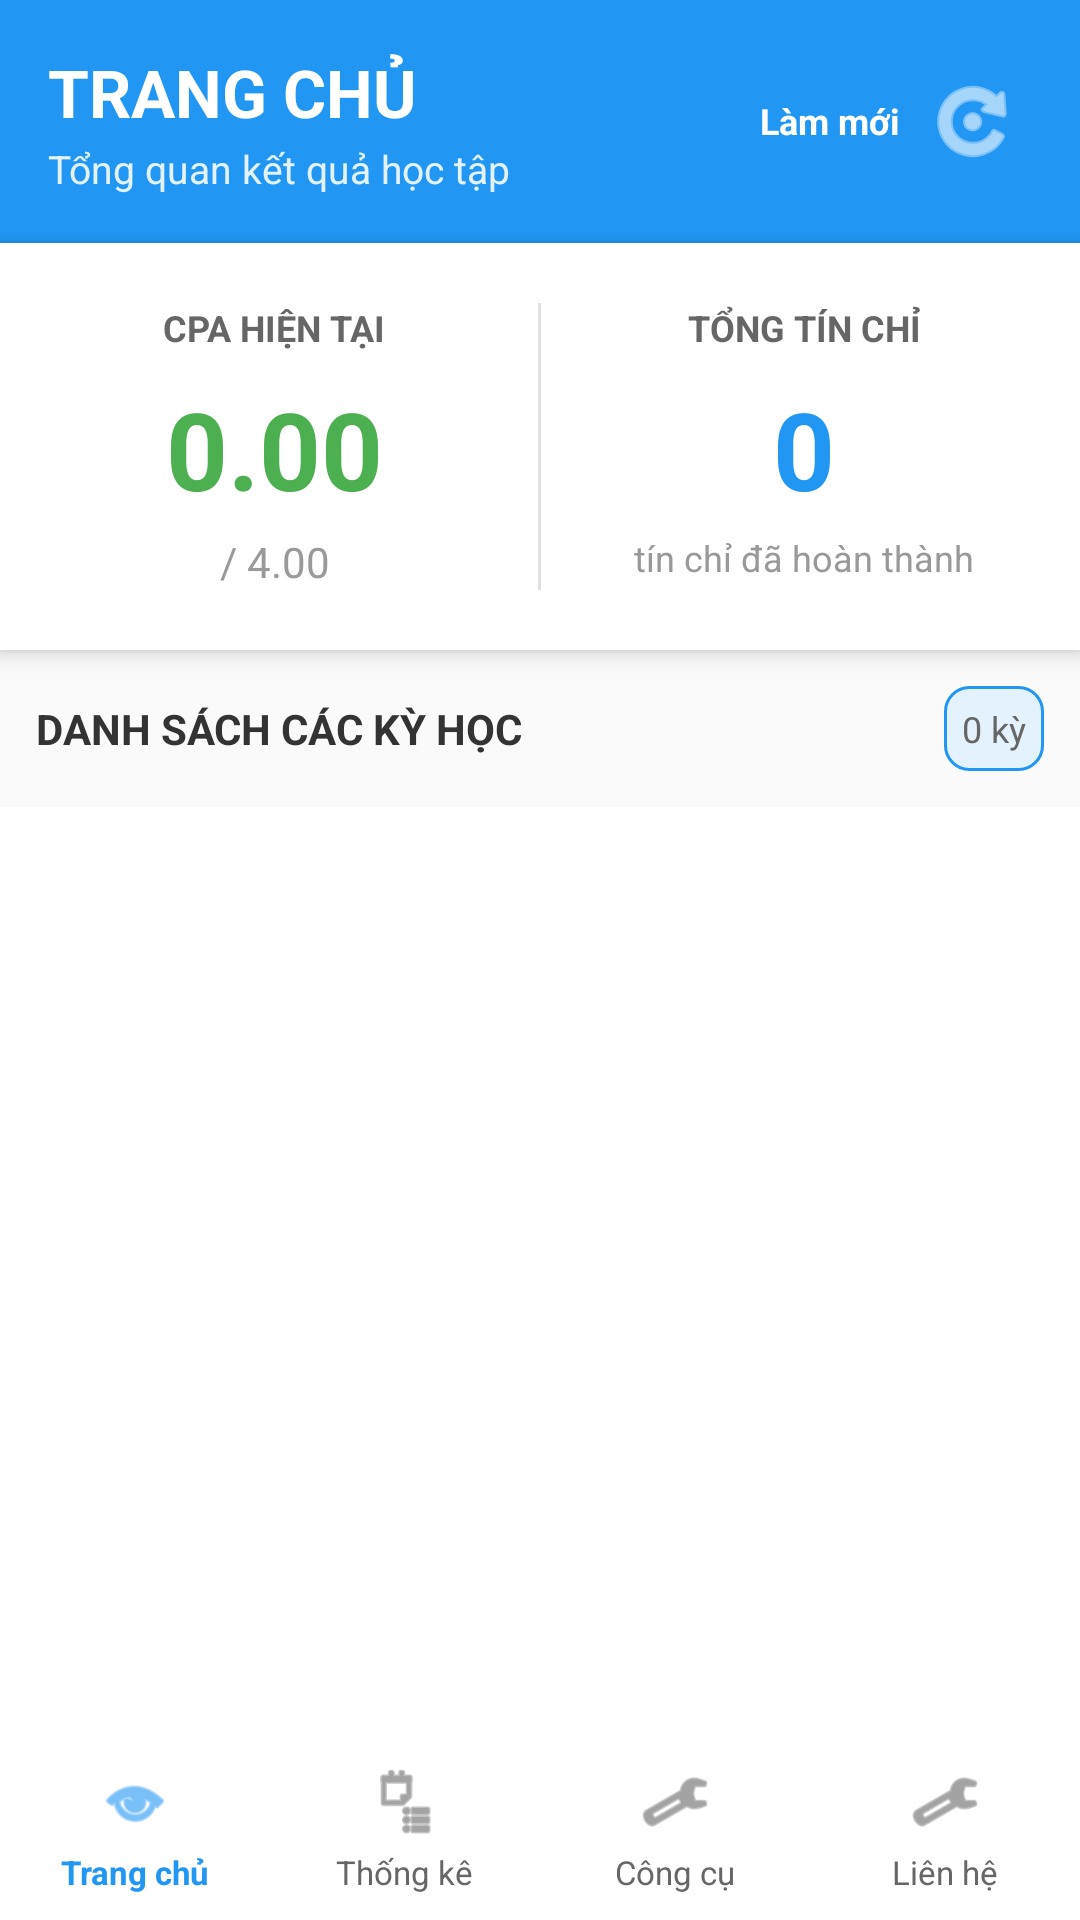

Screen size 1080×1920. Icon name, then its box in pixels as (x1, y1, x2, y2):
agenda: (380, 1770, 431, 1834)
Lấy lại dữ liệu từ Web: (937, 86, 1007, 157)
manage: (643, 1777, 707, 1827)
preferences: (913, 1777, 977, 1827)
view: (106, 1785, 164, 1822)
